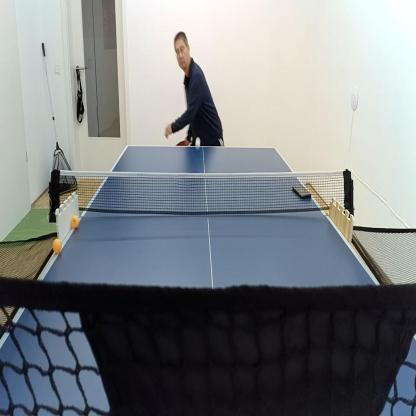Ball: (52, 236, 63, 255), (70, 214, 80, 230), (194, 136, 201, 149)
